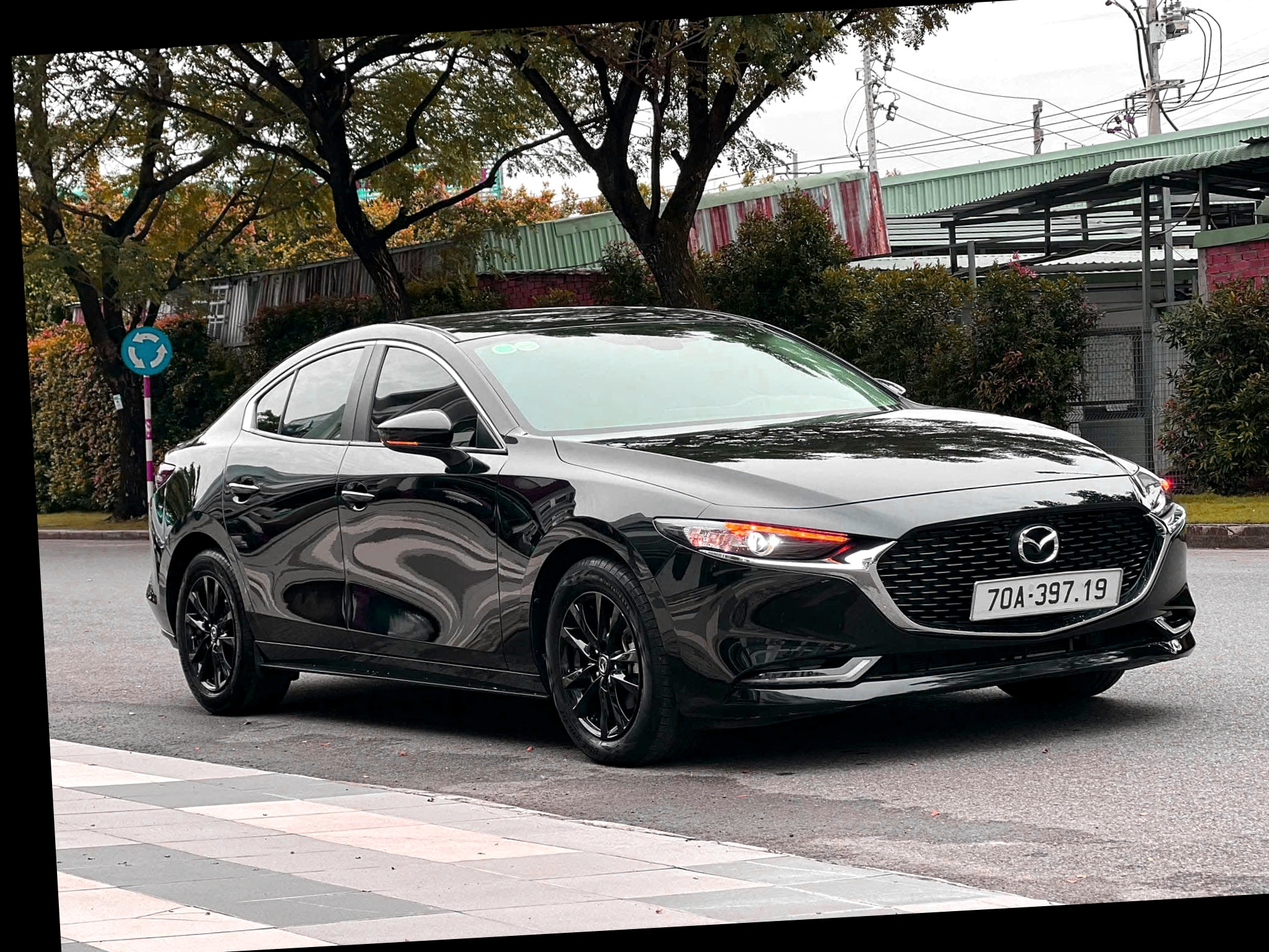Bien-so: (947, 594, 1103, 636)
